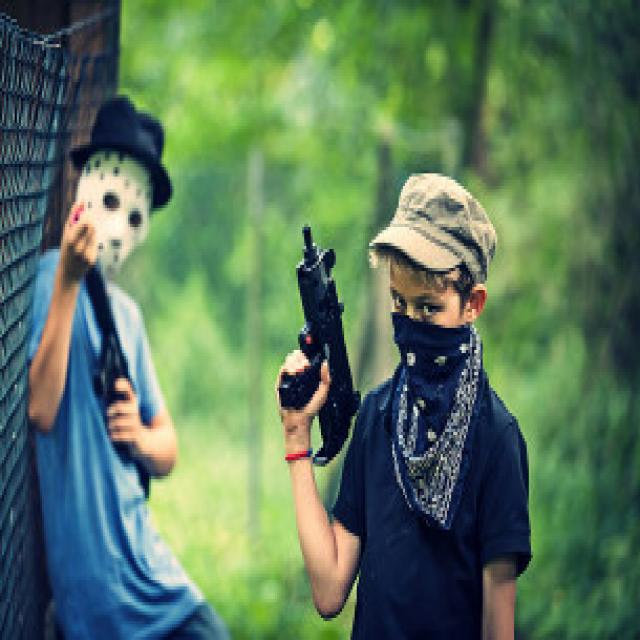mask: (388, 251, 464, 380)
